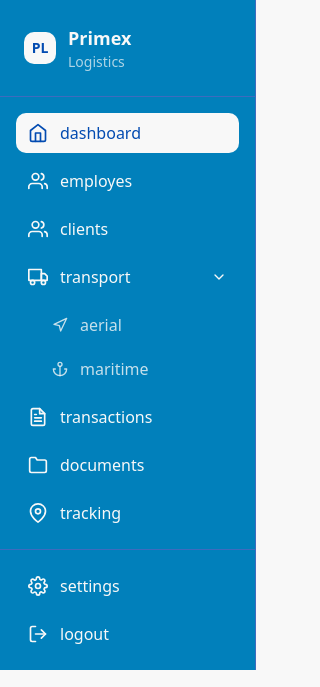
Scenario: Sidebar › déroule et replie le sous-menu transport
The width and height of the screenshot is (320, 687).
Check: the text "aerial" is shown, box [80,313,122,337]
Check: the text "maritime" is shown, box [80,357,149,381]
Click the button "transport".
click(128, 277)  # box [16,257,239,297]
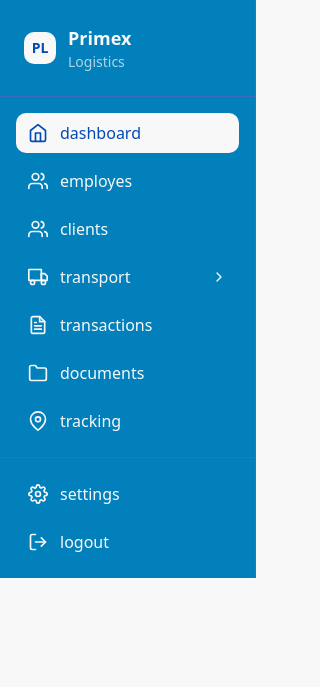
Check: the link "aerial" is gone
Check: the link "maritime" is gone
